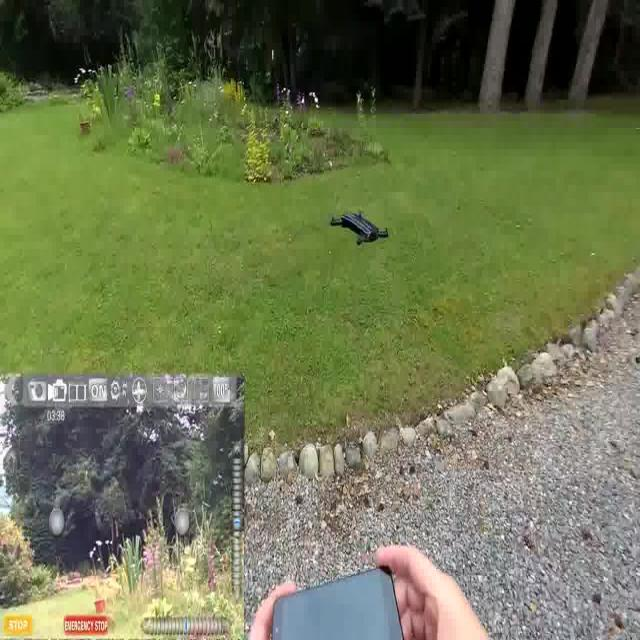drone: (324, 206, 395, 250)
